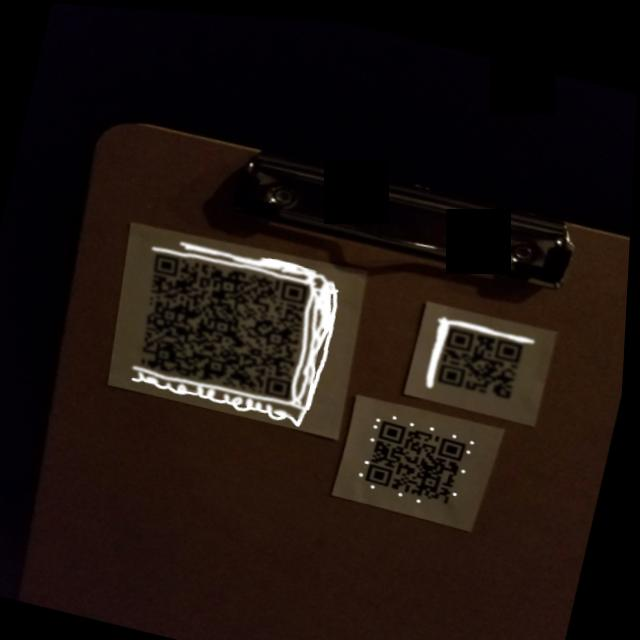QR_CODE: (120, 227, 340, 416), (352, 396, 494, 517), (418, 300, 546, 409)
